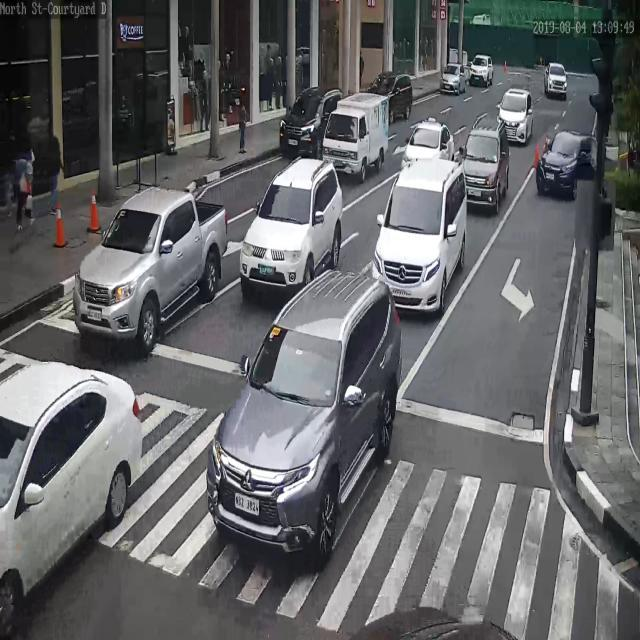car: (206, 268, 402, 560), (0, 360, 143, 635), (72, 187, 228, 340), (238, 156, 343, 298), (461, 112, 509, 218), (279, 88, 347, 162), (536, 130, 596, 197), (401, 117, 454, 172), (368, 73, 411, 117), (543, 62, 570, 99), (440, 62, 466, 95), (470, 54, 494, 86)
van: (372, 157, 467, 314), (321, 91, 389, 176), (497, 88, 533, 143)
